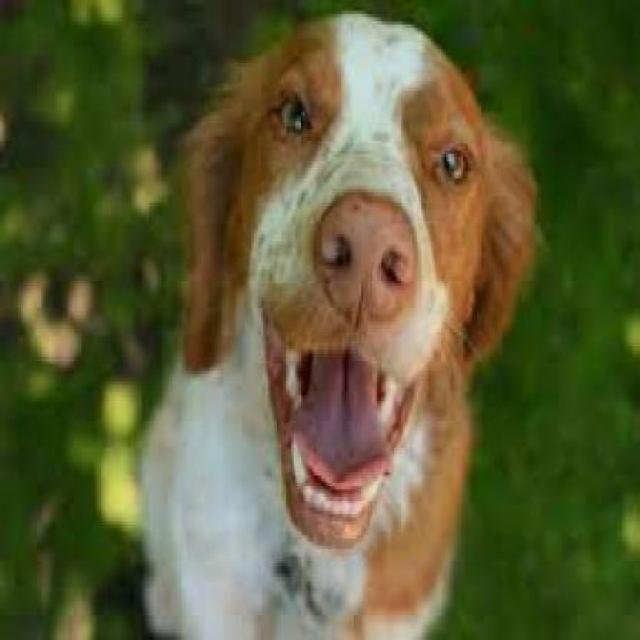animals: (144, 6, 516, 628)
